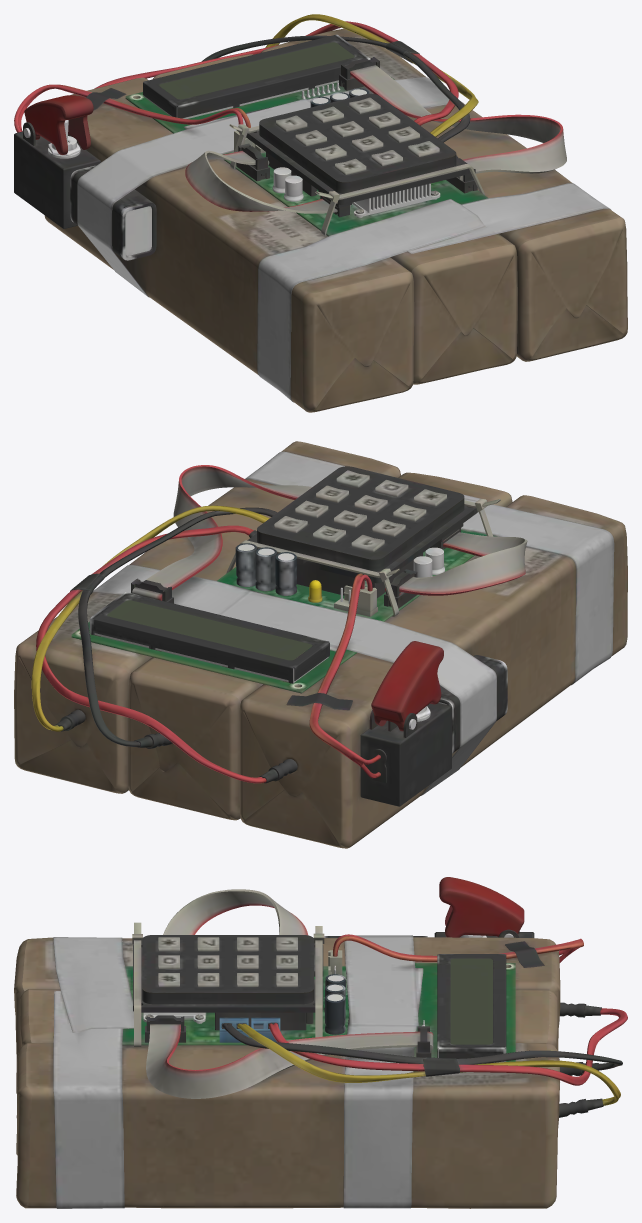
3 renders of one model, top to bottom at view 1: azimuth 30°, elevation 25°; view 2: azimuth 150°, elevation 25°; view 3: azimuth 270°, elevation 25°, orthographic. The views are drawn at different scales.
Parts seen in each view (by area): view 1: weapons\models\c4\weapon_c4.vmdl_c.body_hd, weapons\models\c4\weapon_c4.vmdl_c.c4_screen; view 2: weapons\models\c4\weapon_c4.vmdl_c.body_hd, weapons\models\c4\weapon_c4.vmdl_c.c4_screen; view 3: weapons\models\c4\weapon_c4.vmdl_c.body_hd, weapons\models\c4\weapon_c4.vmdl_c.c4_screen.
Part boxes in pixels (left/top/right/bottom): weapons\models\c4\weapon_c4.vmdl_c.body_hd: left=14, top=14, right=627, bottom=412; weapons\models\c4\weapon_c4.vmdl_c.c4_screen: left=159, top=42, right=354, bottom=99; weapons\models\c4\weapon_c4.vmdl_c.body_hd: left=14, top=441, right=627, bottom=848; weapons\models\c4\weapon_c4.vmdl_c.c4_screen: left=107, top=600, right=312, bottom=660; weapons\models\c4\weapon_c4.vmdl_c.body_hd: left=14, top=877, right=627, bottom=1208; weapons\models\c4\weapon_c4.vmdl_c.c4_screen: left=450, top=958, right=492, bottom=1044.
Size of the model in its own units: 0.1893 by 0.0832 by 0.2678.
Materials: 2 (2 with a texture image).
